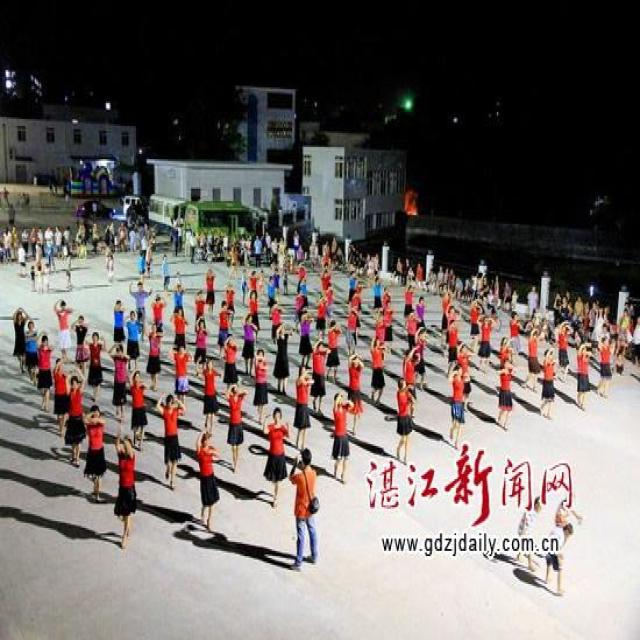non-fight: (291, 448, 321, 566), (193, 429, 221, 530), (262, 408, 290, 504), (113, 431, 137, 541), (156, 394, 185, 484), (543, 518, 576, 594), (514, 493, 545, 570), (82, 405, 108, 494), (331, 391, 355, 481), (65, 374, 87, 456), (448, 362, 468, 448), (224, 382, 246, 460), (108, 342, 131, 414), (127, 368, 149, 442), (394, 379, 413, 464), (170, 343, 193, 412), (497, 354, 518, 429), (292, 366, 312, 444), (309, 338, 330, 410), (52, 356, 71, 432), (346, 352, 365, 428), (539, 348, 559, 419), (272, 324, 292, 395), (522, 324, 544, 388), (85, 333, 106, 400), (252, 348, 271, 422), (200, 360, 220, 429), (574, 341, 594, 408), (36, 337, 54, 410), (595, 336, 615, 401), (455, 342, 474, 409), (54, 300, 74, 361), (401, 344, 421, 405), (145, 327, 164, 391), (369, 336, 387, 403), (128, 280, 152, 330), (555, 321, 574, 382), (476, 312, 496, 369), (554, 496, 584, 534), (11, 307, 28, 372), (241, 314, 258, 379), (618, 311, 636, 370), (23, 321, 40, 382), (72, 315, 90, 372), (218, 302, 235, 360), (170, 305, 189, 356), (445, 314, 462, 371), (326, 321, 342, 380), (413, 334, 429, 391), (298, 312, 314, 368), (193, 318, 209, 374), (508, 311, 524, 360), (112, 300, 128, 346), (346, 303, 360, 352), (125, 318, 141, 360), (498, 336, 514, 377), (270, 302, 284, 348), (406, 308, 420, 354), (314, 296, 328, 342), (150, 294, 166, 332), (469, 301, 482, 347), (381, 300, 394, 346), (247, 290, 260, 336), (172, 282, 186, 322), (441, 291, 452, 340), (194, 290, 207, 331), (373, 312, 386, 352), (205, 267, 216, 312), (224, 281, 236, 322), (266, 274, 278, 314), (294, 289, 306, 325), (527, 285, 539, 320), (415, 295, 426, 333), (632, 316, 640, 367), (592, 308, 604, 342), (323, 284, 334, 319), (350, 286, 362, 318), (404, 282, 414, 320), (35, 257, 45, 293), (373, 276, 383, 311), (298, 274, 308, 309), (600, 306, 612, 335), (105, 248, 115, 282), (161, 255, 171, 289), (145, 242, 154, 278), (228, 248, 238, 280), (348, 271, 358, 303), (42, 260, 52, 292), (588, 301, 598, 333), (18, 242, 27, 277), (248, 271, 259, 299), (253, 234, 262, 267), (281, 260, 289, 295), (65, 255, 73, 290), (309, 236, 318, 266), (11, 225, 19, 258), (47, 240, 55, 272), (140, 232, 148, 263), (241, 269, 248, 304), (138, 249, 146, 279), (554, 292, 562, 320), (503, 280, 511, 308), (436, 265, 444, 293), (396, 257, 404, 284), (173, 227, 180, 257), (189, 230, 196, 260), (493, 276, 500, 304), (511, 289, 518, 316), (416, 261, 424, 284), (323, 240, 330, 265), (373, 253, 380, 278), (30, 265, 36, 291), (3, 185, 9, 207), (331, 237, 337, 258)
